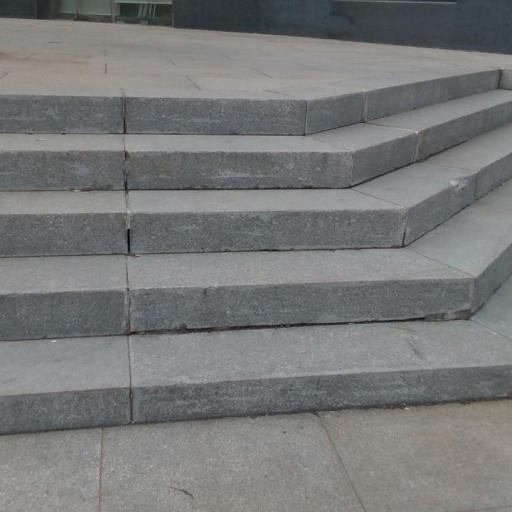stairs: (0, 70, 511, 431)
